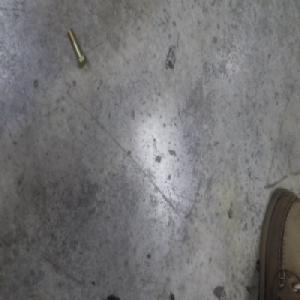Bolt: (65, 28, 86, 72)
